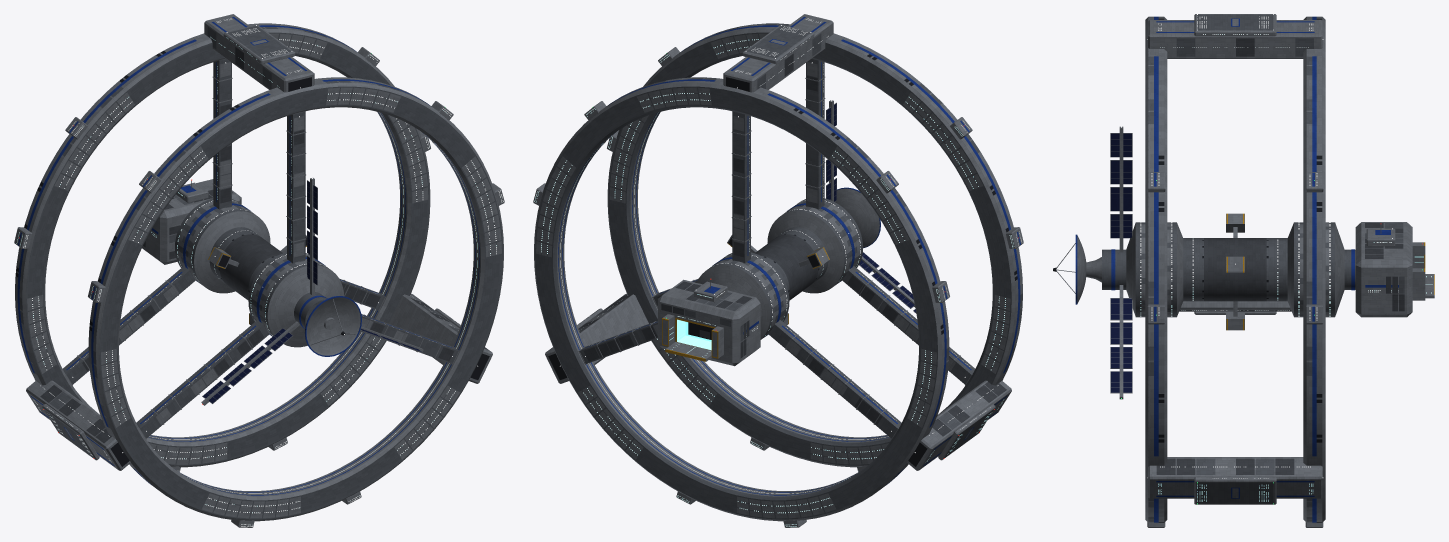
The model's file is space_station_v2.glb.
3 views of the same model, side by side, from view 1: azimuth 30°, elevation 25°; view 2: azimuth 150°, elevation 25°; view 3: azimuth 270°, elevation 25° (orthographic). The views are drawn at different scales.
Visible parts, largest first — view 1: Station_RingAft, Station_RingFore, Station_Core, Station_Tower0, Station_Tower1, Station_SpokeA1, Station_SpokeA0, Station_Dish, Station_Hangar, Station_Tower2, Station_SpokeF1, Station_SpokeF0 (+4 smaller); view 2: Station_RingFore, Station_RingAft, Station_Core, Station_Hangar, Station_Tower0, Station_Tower1, Station_SpokeF1, Station_SpokeF0, Station_Tower2, Station_SpokeA1, Station_SpokeA0, Station_SpokeF2 (+3 smaller); view 3: Station_Core, Station_RingFore, Station_RingAft, Station_Tower2, Station_Tower0, Station_Hangar, Station_Solar0, Station_Solar2, Station_Tower1, Station_Dish.
Part boxes in pixels (x1,y1,x2,y2): Station_RingAft: [88, 77, 504, 527]; Station_RingFore: [14, 23, 430, 471]; Station_Core: [175, 198, 343, 347]; Station_Tower0: [204, 14, 314, 92]; Station_Tower1: [26, 380, 130, 470]; Station_SpokeA1: [136, 320, 269, 439]; Station_SpokeA0: [286, 111, 306, 263]; Station_Dish: [305, 296, 361, 356]; Station_Hangar: [142, 179, 241, 264]; Station_Tower2: [389, 293, 492, 383]; Station_SpokeF1: [63, 266, 195, 385]; Station_SpokeF0: [212, 58, 232, 209]; Station_RingFore: [533, 77, 949, 527]; Station_RingAft: [607, 23, 1023, 471]; Station_Core: [696, 198, 862, 339]; Station_Hangar: [658, 278, 760, 366]; Station_Tower0: [723, 14, 833, 92]; Station_Tower1: [907, 380, 1011, 470]; Station_SpokeF1: [768, 320, 901, 439]; Station_SpokeF0: [731, 111, 751, 263]; Station_Tower2: [545, 293, 648, 383]; Station_SpokeA1: [842, 266, 974, 385]; Station_SpokeA0: [805, 58, 825, 209]; Station_SpokeF2: [578, 320, 657, 364]; Station_Core: [1102, 222, 1355, 317]; Station_RingFore: [1303, 16, 1325, 527]; Station_RingAft: [1145, 16, 1167, 527]; Station_Tower2: [1147, 457, 1323, 504]; Station_Tower0: [1147, 14, 1323, 58]; Station_Hangar: [1355, 222, 1434, 317]; Station_Solar0: [1110, 126, 1132, 252]; Station_Solar2: [1110, 285, 1132, 399]; Station_Tower1: [1179, 301, 1291, 314]; Station_Dish: [1052, 234, 1101, 304].
Size of the model in its own units: 1606 by 1667 by 1209.
Materials: 13 (6 with a texture image).
